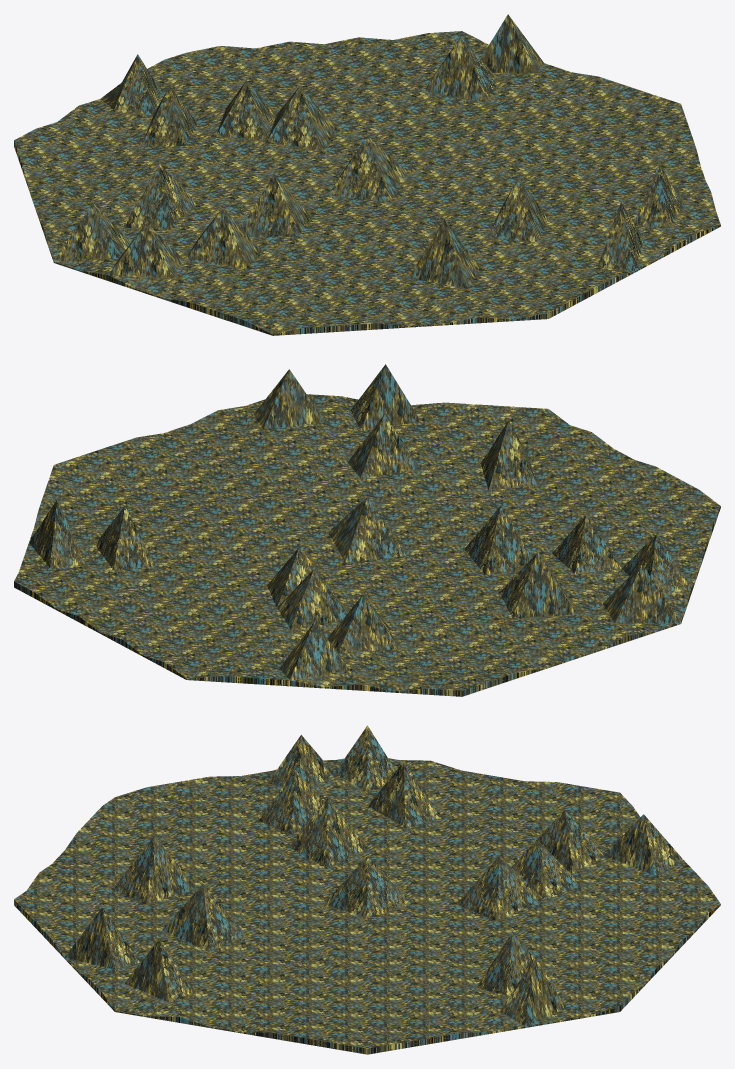
The model's file is TestStage.fbx.
3 views of the same model, one above another, from view 1: azimuth 30°, elevation 25°; view 2: azimuth 150°, elevation 25°; view 3: azimuth 270°, elevation 25° (orthographic). The views are drawn at different scales.
Visible parts, largest first — view 1: Cube; view 2: Cube; view 3: Cube.
Boxes of the visible parts, <box> form: Cube: <box>14,14,720,335</box>; Cube: <box>14,364,720,696</box>; Cube: <box>14,725,720,1054</box>.
Bounding box in the file's own units: 3078 × 259 × 3078.
1 material, 1 textured.
